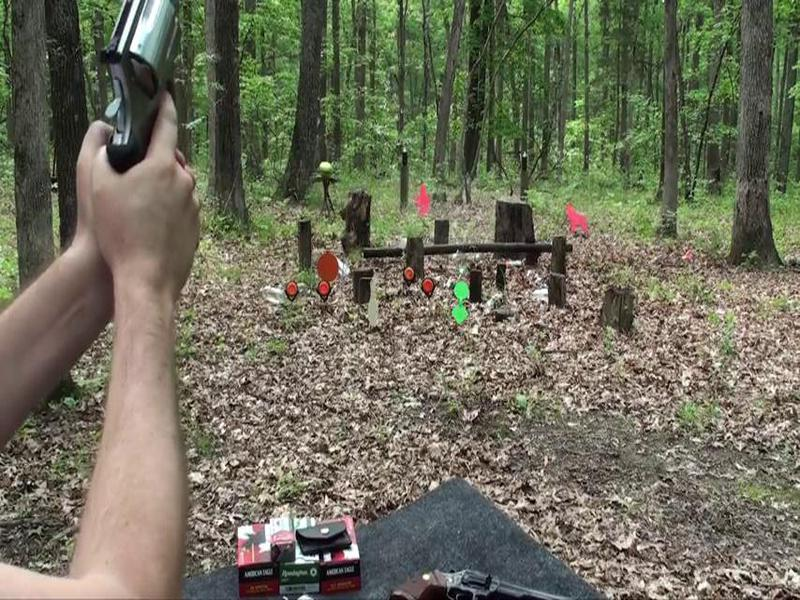Revolver: (390, 553, 563, 600)
